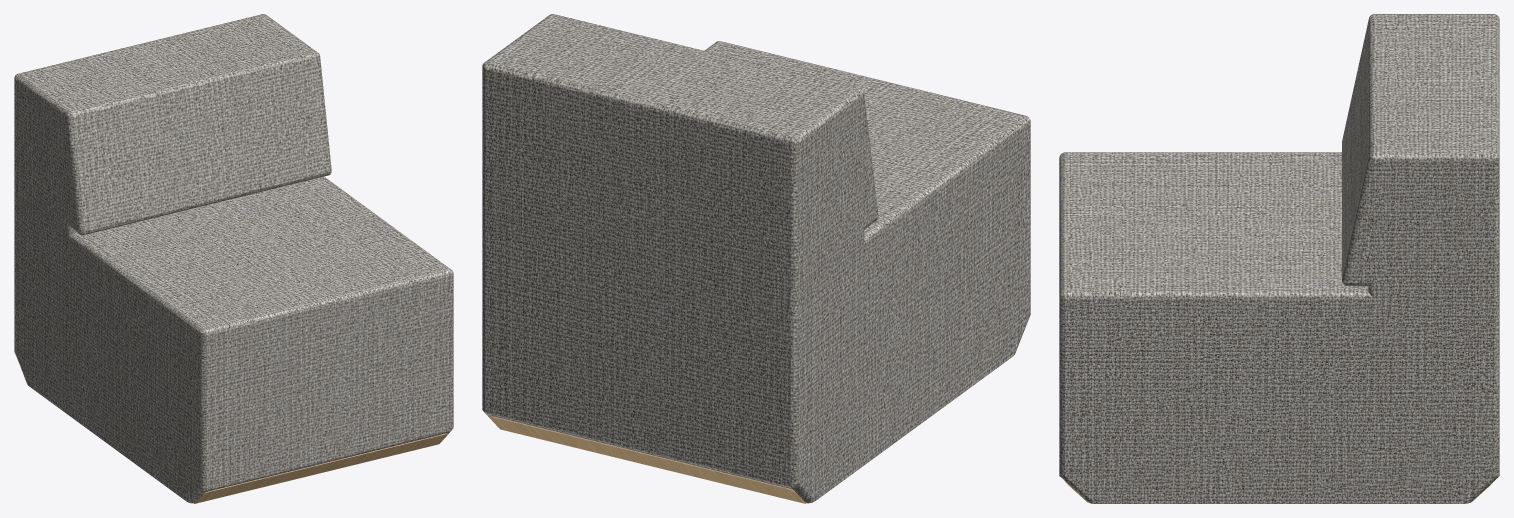
3 renders of one model, left to right at view 1: azimuth 30°, elevation 25°; view 2: azimuth 150°, elevation 25°; view 3: azimuth 270°, elevation 25°, orthographic. The views are drawn at different scales.
Parts seen in each view (by area): view 1: 2, 6; view 2: 2, 5; view 3: 2.
Boxes of the visible parts, left/top/right/bottom form: 2: left=14, top=14, right=453, bottom=503; 6: left=194, top=434, right=447, bottom=503; 2: left=482, top=14, right=1030, bottom=503; 5: left=489, top=416, right=806, bottom=503; 2: left=1059, top=14, right=1499, bottom=503.
Bounding box in the file's own units: 0.6 × 0.6937 × 0.78.
3 materials, 2 textured.
